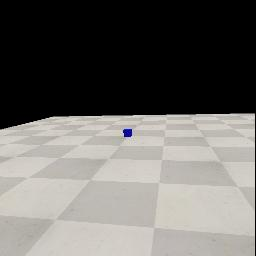box: (123, 129, 132, 137)
